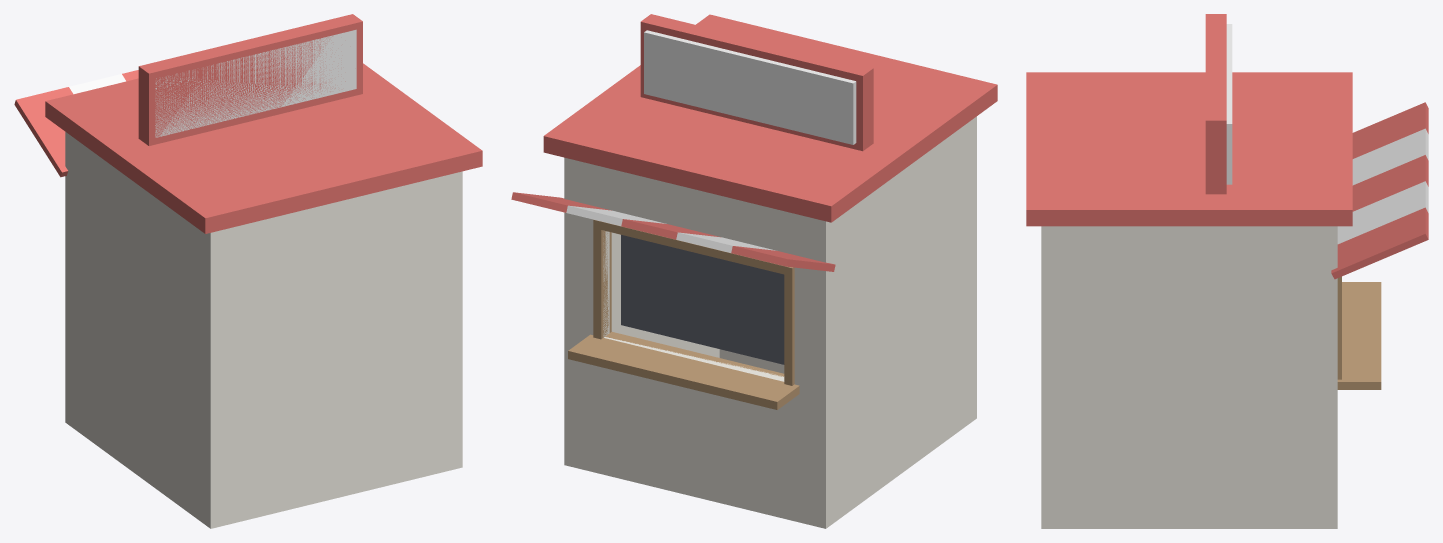
Rendered from th3_kiosk.glb.
3 views of the same model, side by side, from view 1: azimuth 30°, elevation 25°; view 2: azimuth 150°, elevation 25°; view 3: azimuth 270°, elevation 25° (orthographic). The views are drawn at different scales.
Visible parts, largest first — view 1: kiosk; view 2: kiosk; view 3: kiosk.
Boxes of the visible parts, x1,y1,x2,y2 form: kiosk: (14, 14, 482, 528); kiosk: (511, 14, 997, 528); kiosk: (1026, 14, 1428, 528).
Size of the model in its own units: 2.2 by 2.97 by 2.71.
